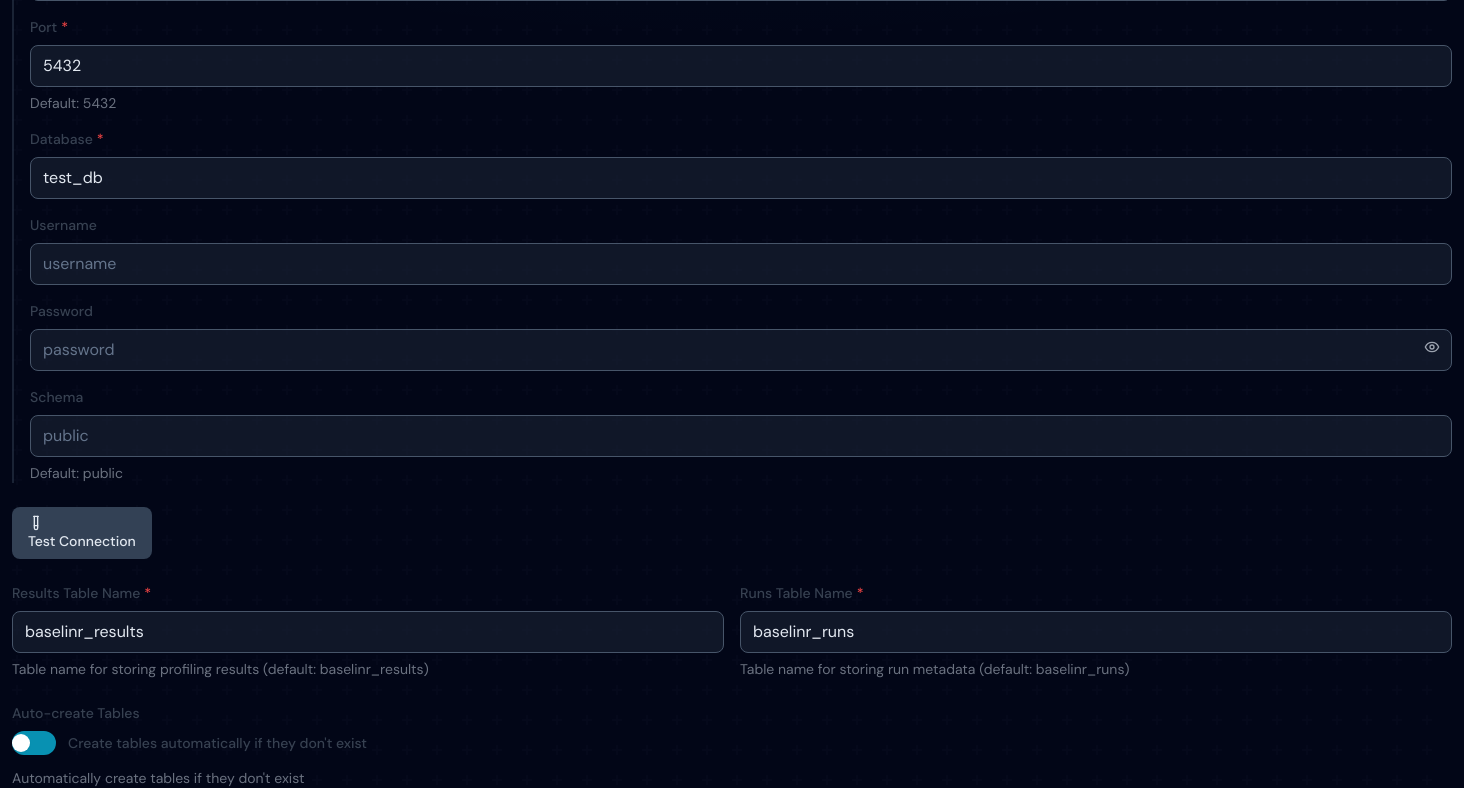
Test: StorageConfig › displays test success message
The width and height of the screenshot is (1464, 788).
(page scrolled)
Click the button "Test Connection" at (82, 533), box [12, 507, 152, 559]
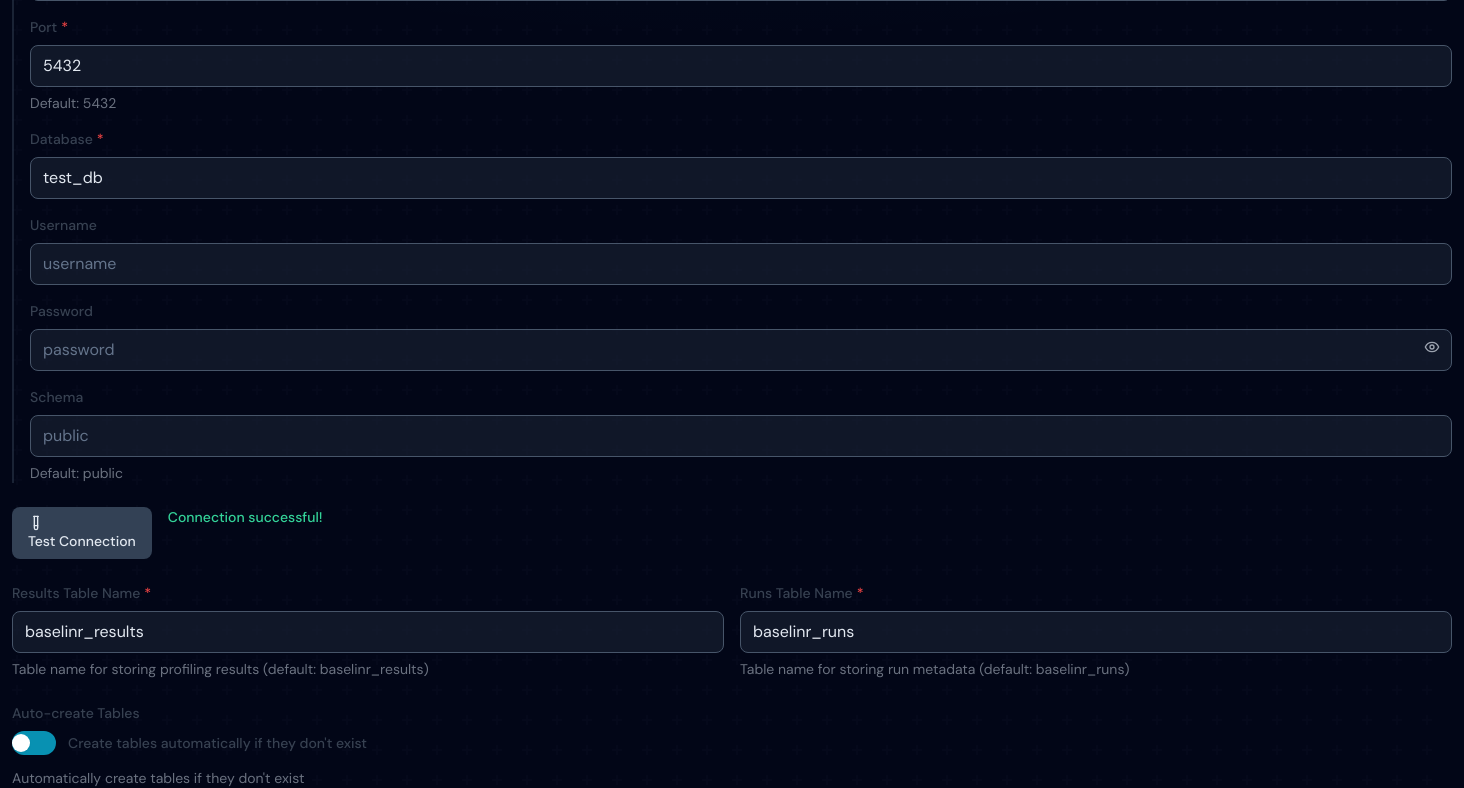
Now the text "Connection successful!" is shown, box [168, 507, 322, 527]
